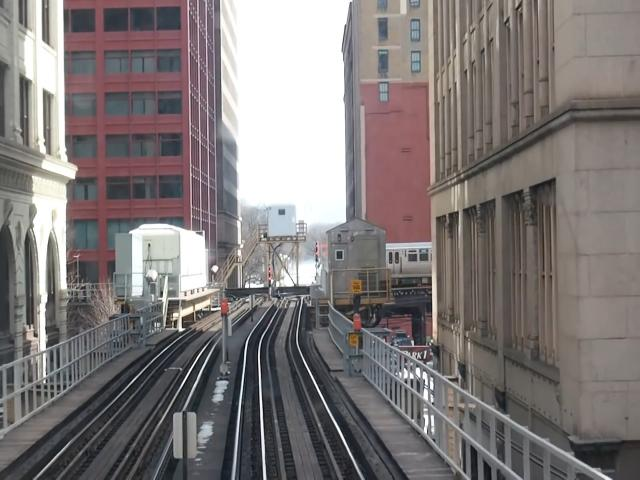signal light: (316, 243, 321, 265), (268, 268, 273, 288)
